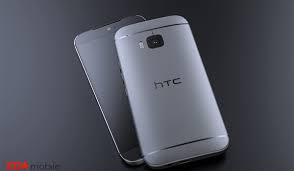htc: (110, 10, 231, 166)
